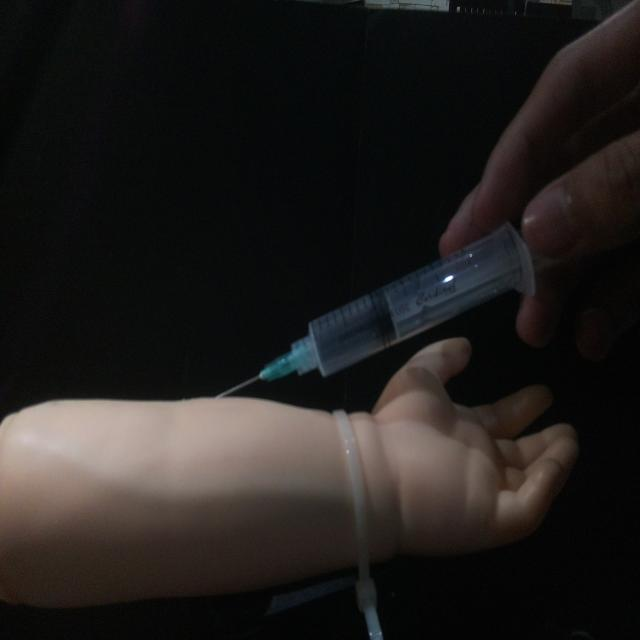19deg: (210, 217, 540, 402)
